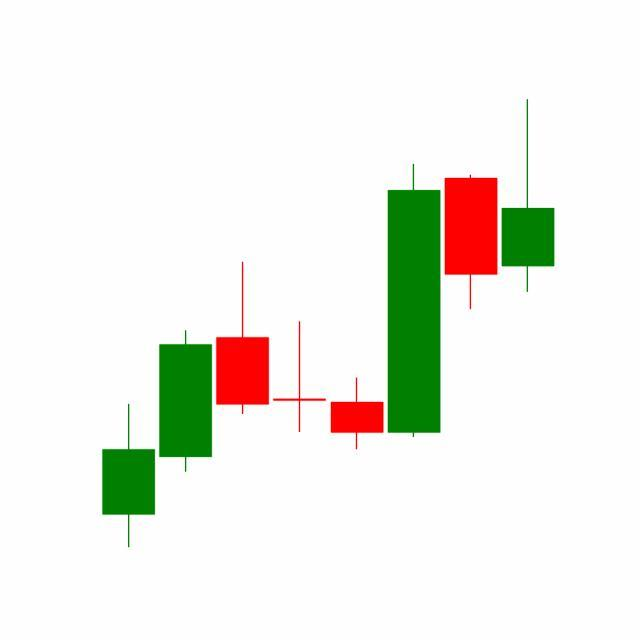Hikkake Pattern: (270, 99, 555, 454)
